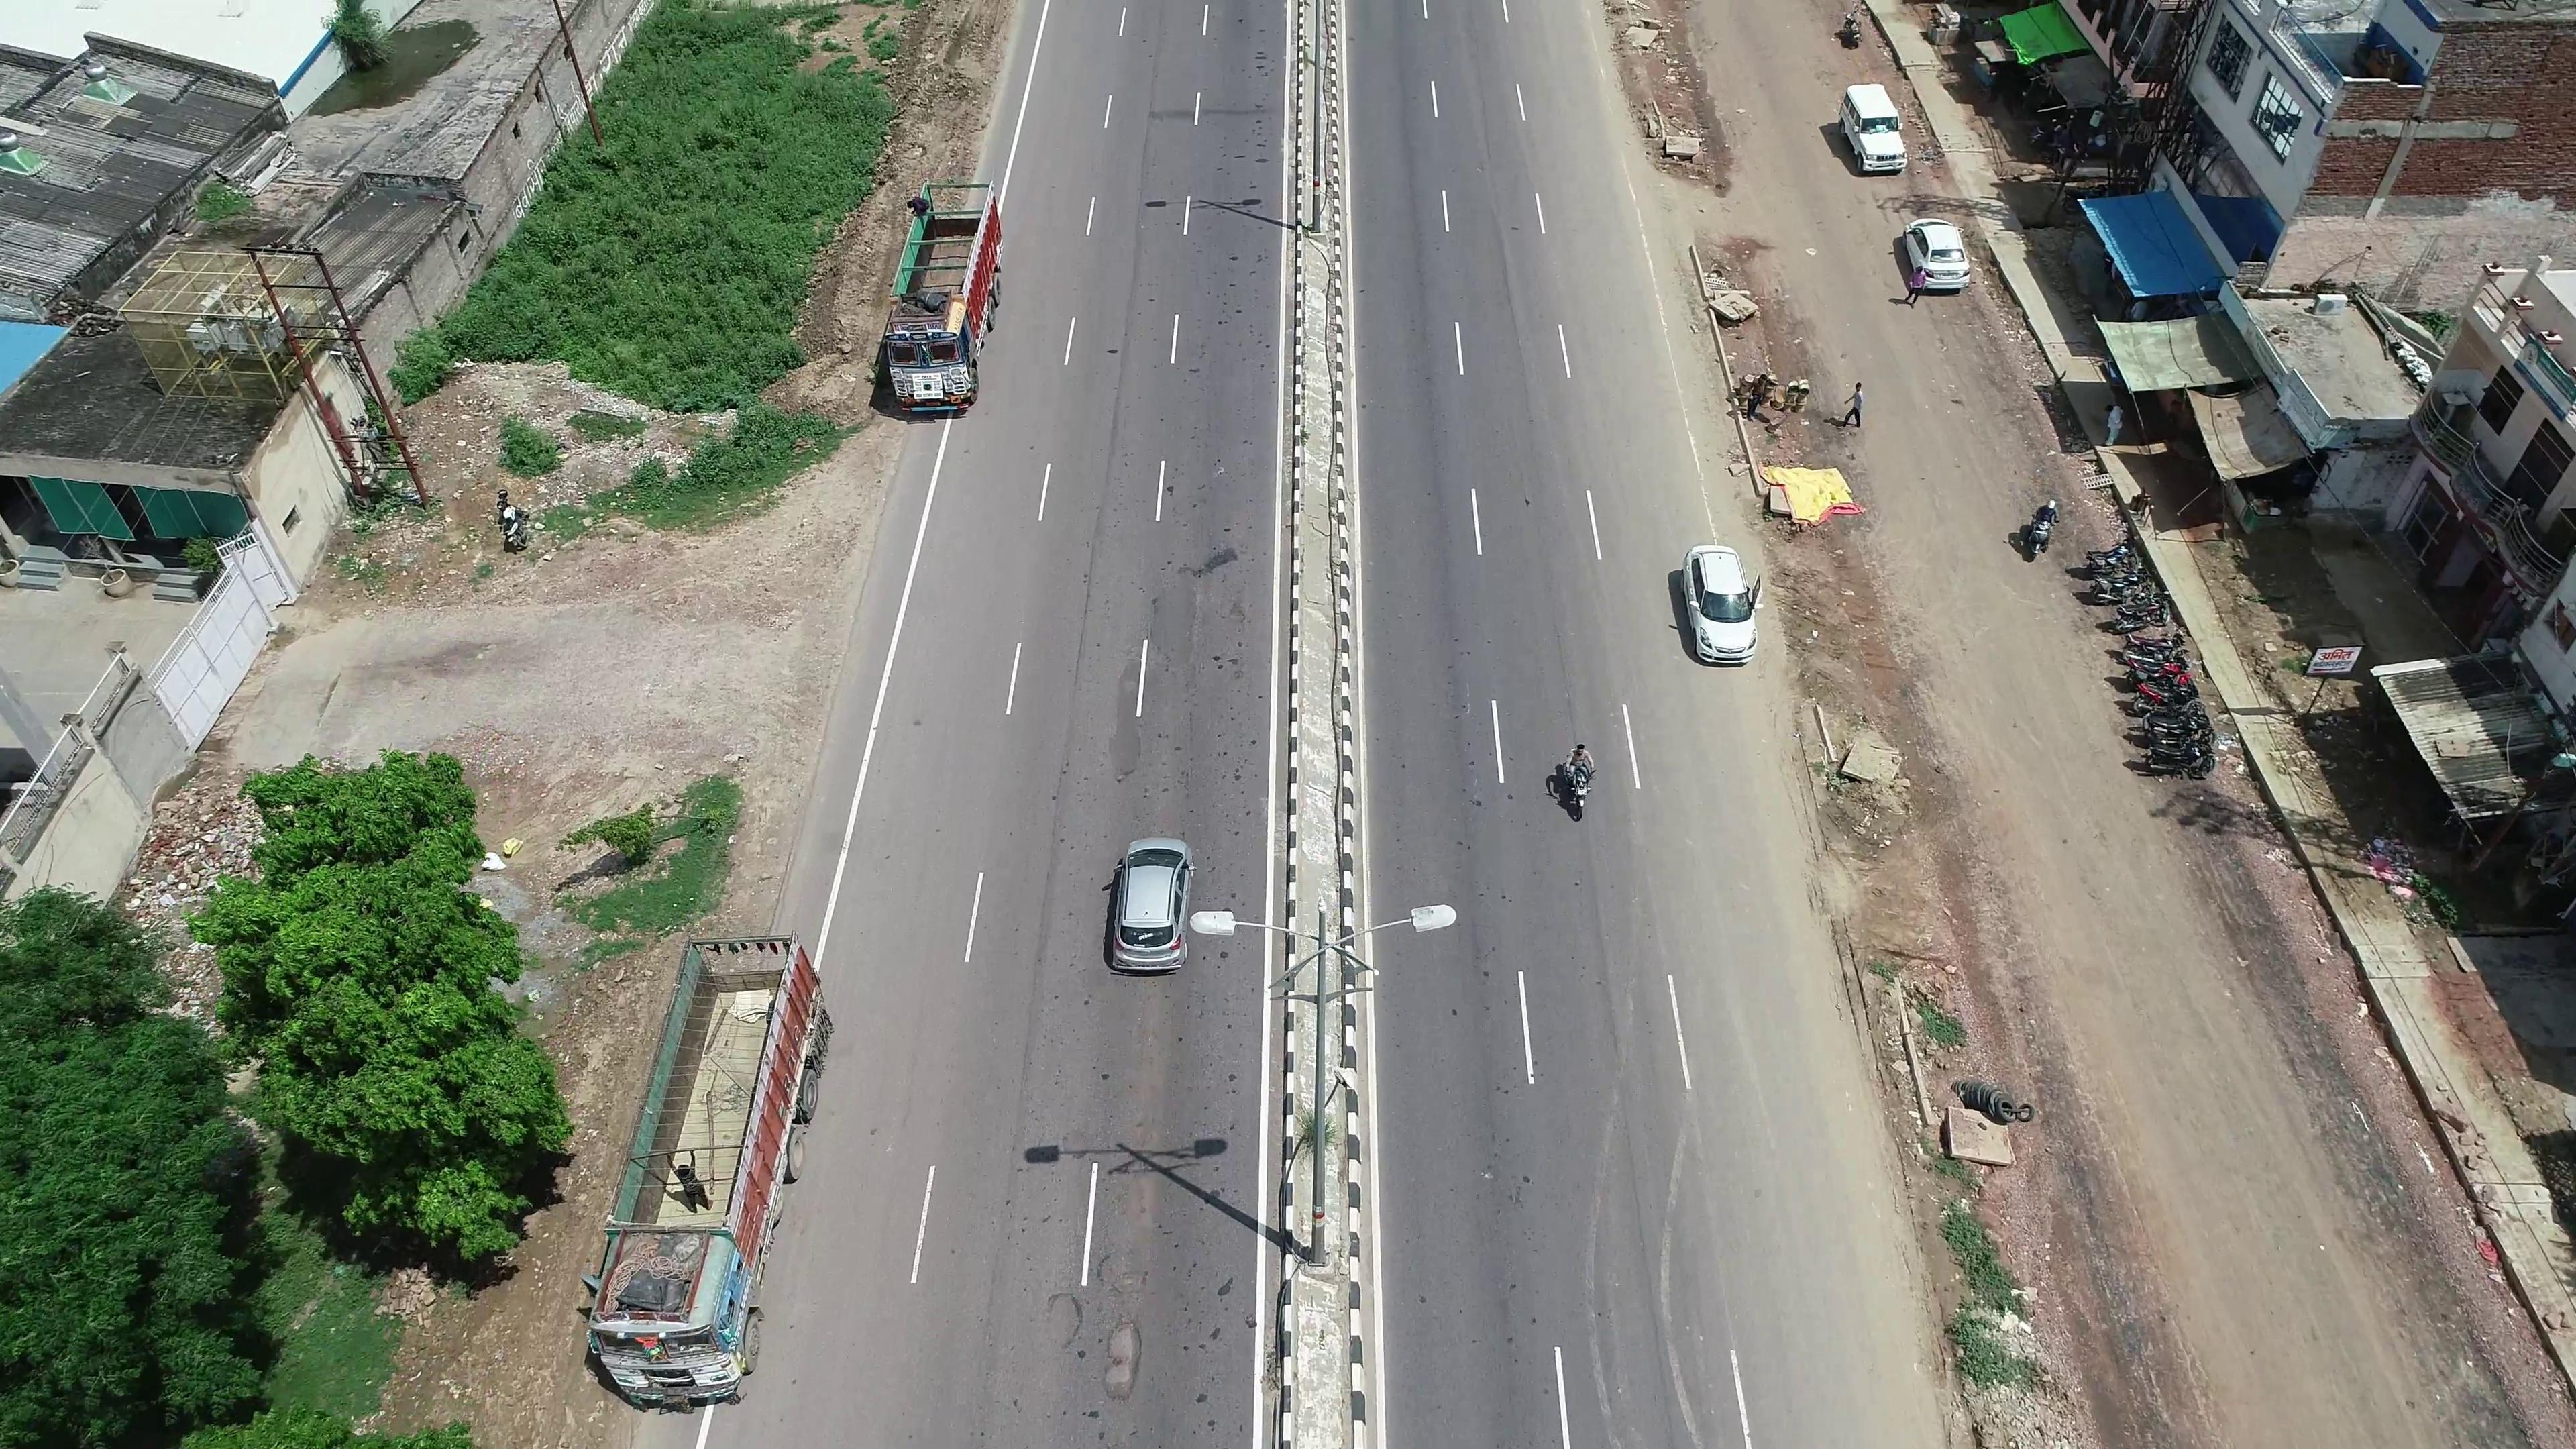Potholes: (1037, 1292, 1191, 1392)
